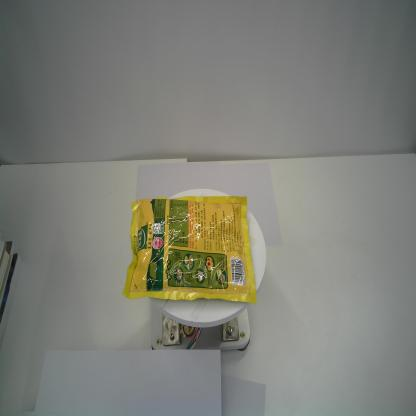Seasoner: (121, 195, 256, 306)
